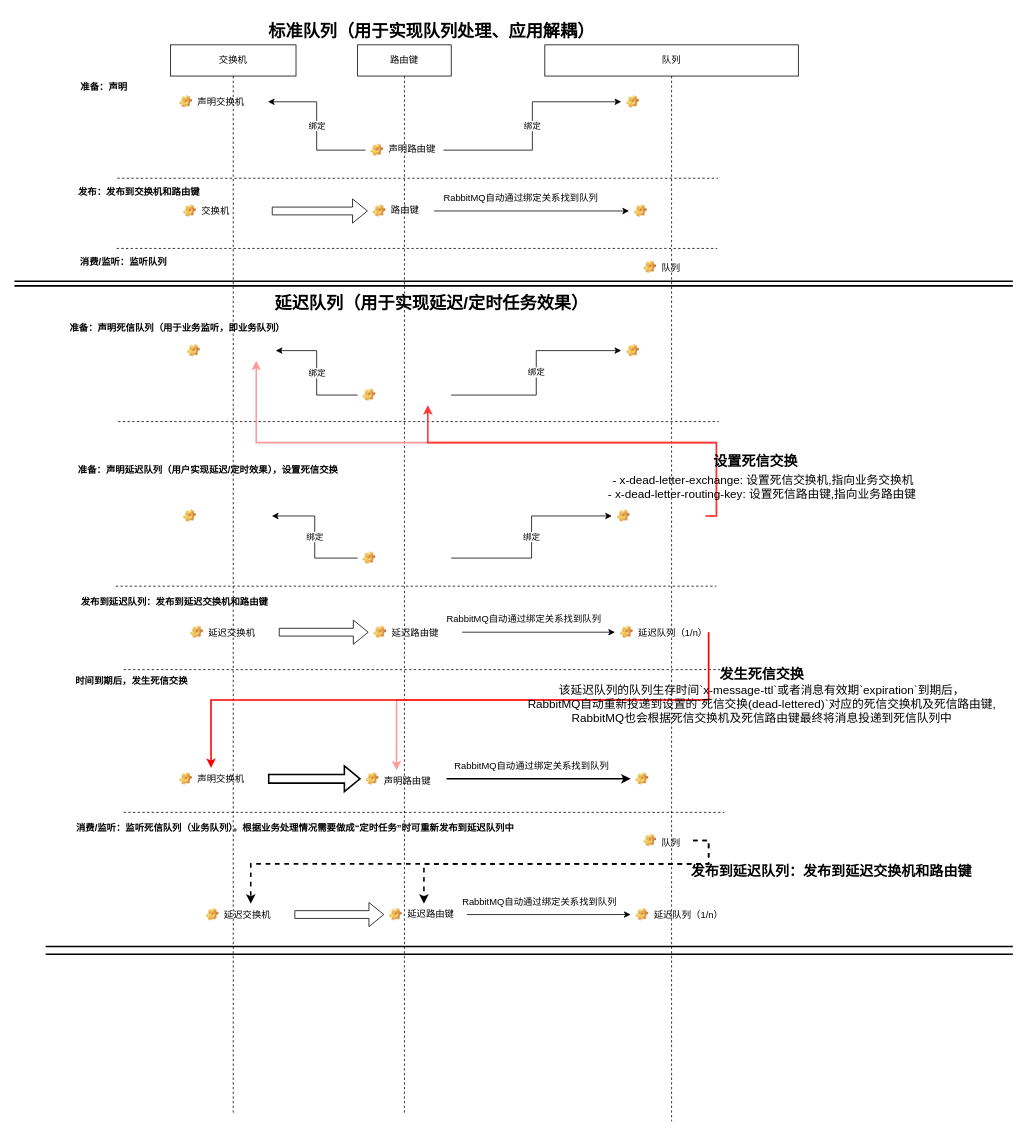
The diagram is 1026 pixels wide and 1135 high, and some of its shapes have lost their labels. The shapes that lost their labels are listed below. From the top down, each one's box as (x1, y1, x2, y2) in pixels, then its label:
(621, 91, 714, 112): 声明队列
(629, 200, 722, 221): 队列（1/n）
(182, 340, 275, 360): 声明死信交换机
(621, 340, 714, 360): 声明死信队列
(357, 385, 451, 405): 声明死信路由键
(178, 505, 271, 526): 声明延迟交换机
(612, 505, 705, 526): 声明延迟队列
(357, 548, 451, 568): 声明延迟路由键
(630, 768, 724, 789): 死信队列
